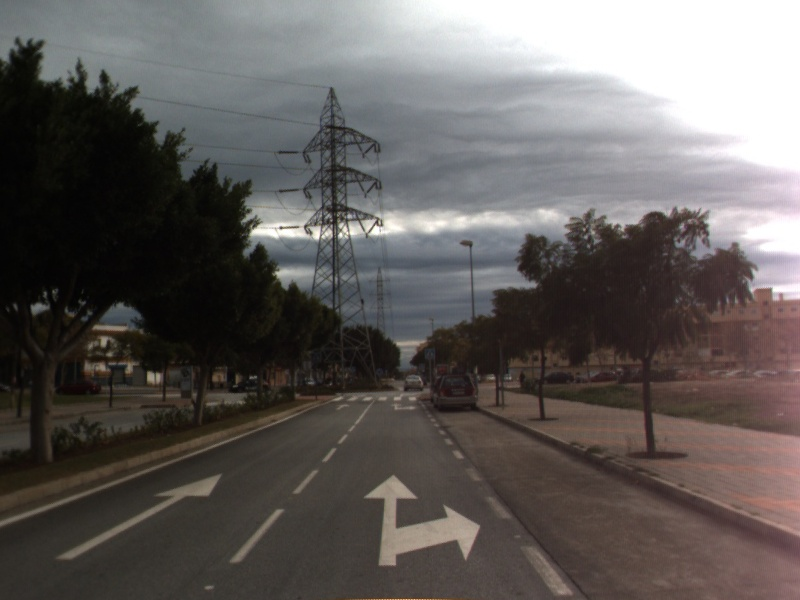STRAIGHT: (52, 472, 225, 562), (333, 402, 352, 412)
STRAIGHT_RIGHT: (361, 472, 482, 568), (389, 401, 420, 412)
